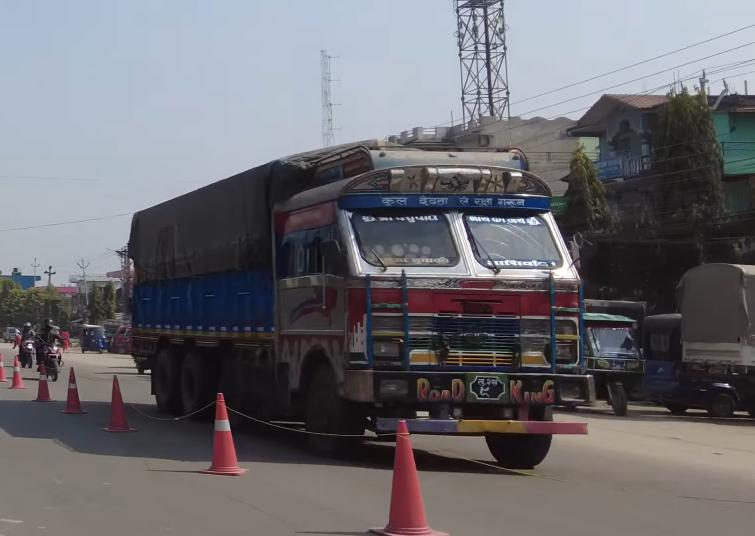auto_rickshaw: (75, 322, 110, 359)
e-rickshaw: (569, 307, 649, 418)
scooter: (35, 336, 64, 385)
transport_vehicle: (676, 258, 755, 395)
truck: (126, 137, 595, 469)
